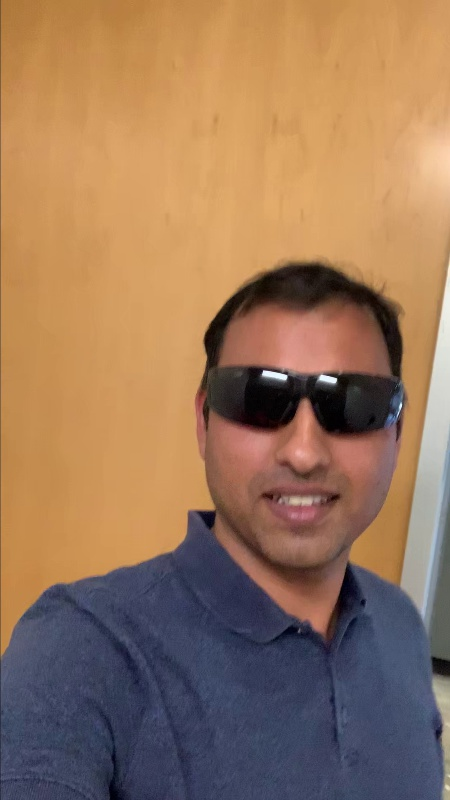glasses: (194, 361, 411, 441)
